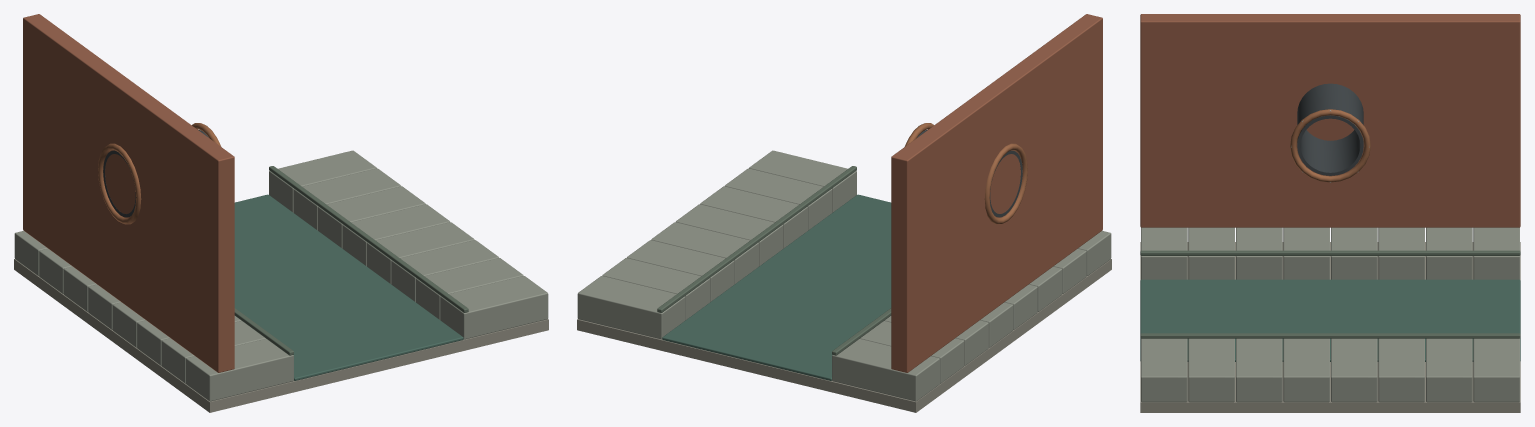
Rendered from undercity-sewers-and-thieves-den-inlet-pipe-wall-3905902e__25020.glb.
The picture shows the model from 3 angles, left to right: view 1: azimuth 30°, elevation 25°; view 2: azimuth 150°, elevation 25°; view 3: azimuth 270°, elevation 25°; orthographic projection. The views are drawn at different scales.
Parts seen in each view (by area): view 1: inlet-pipe-wall; view 2: inlet-pipe-wall; view 3: inlet-pipe-wall.
Boxes of the visible parts, bbox=[...] form: inlet-pipe-wall: bbox=[14, 14, 548, 412]; inlet-pipe-wall: bbox=[577, 14, 1111, 412]; inlet-pipe-wall: bbox=[1140, 14, 1520, 412].
Bounding box in the file's own units: 4 × 2.82 × 4.
